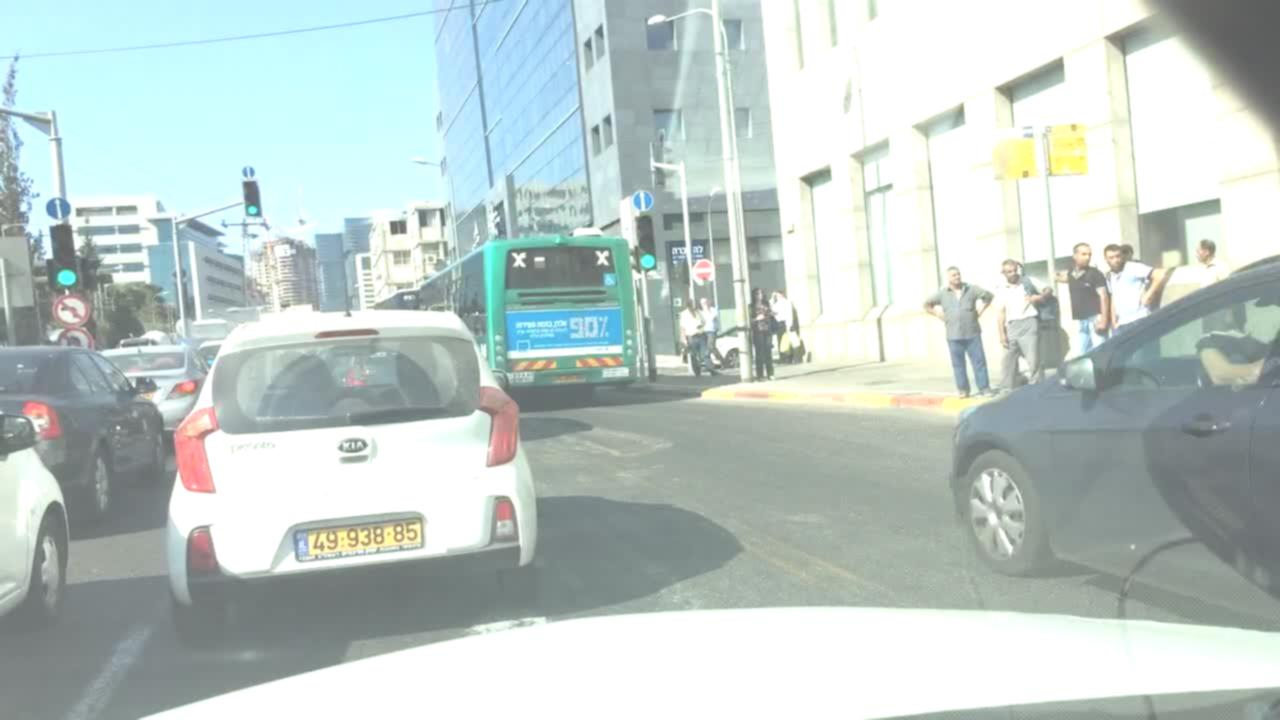kia: (323, 425, 382, 465)
